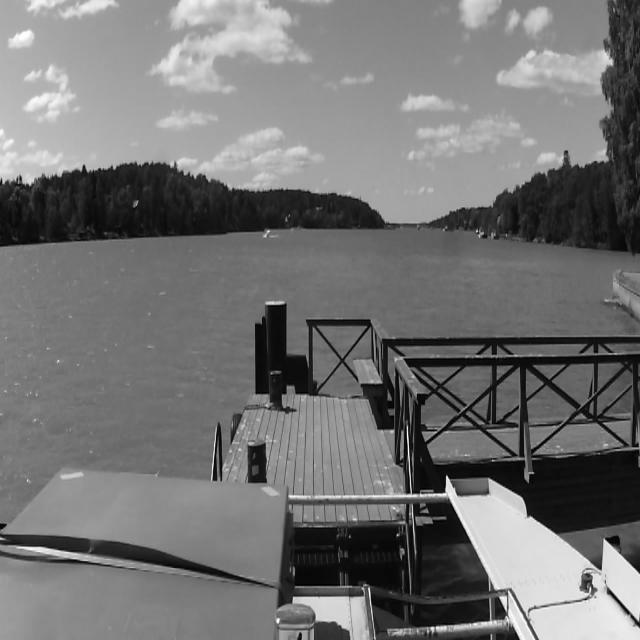ship: (264, 226, 272, 239)
